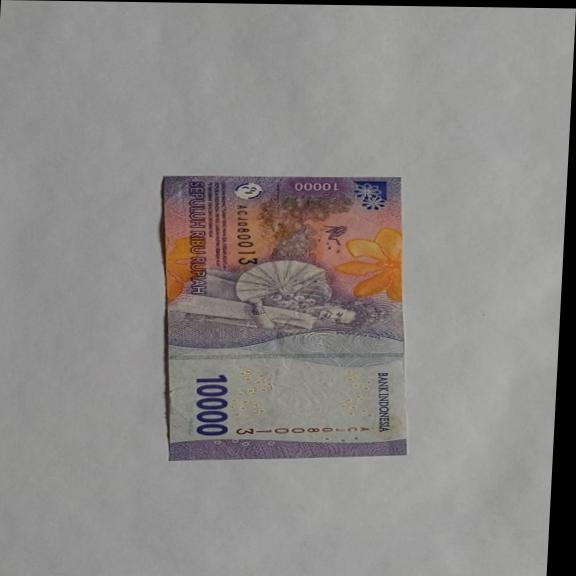Kertas: (147, 173, 423, 464), (192, 373, 233, 437)
